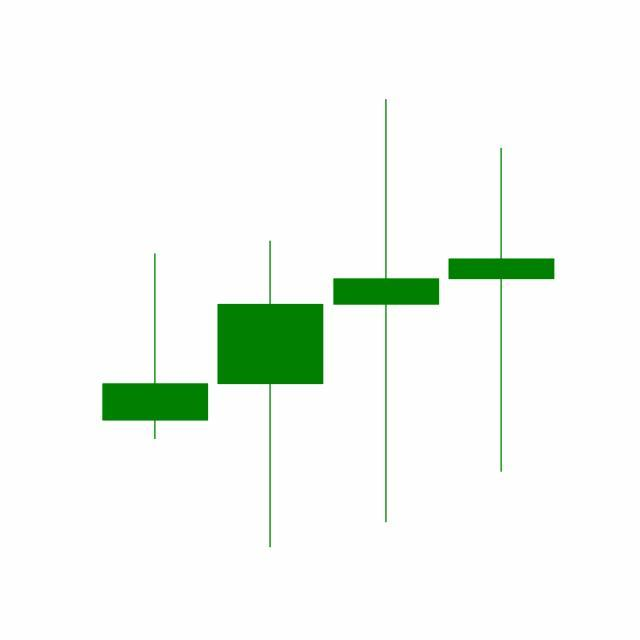Spinning Top: (329, 94, 445, 528)
